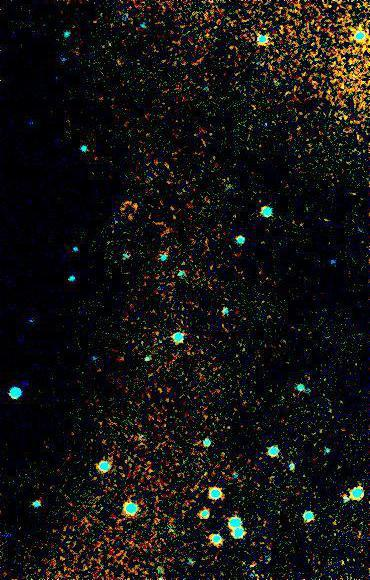star: (120, 191, 150, 221)
